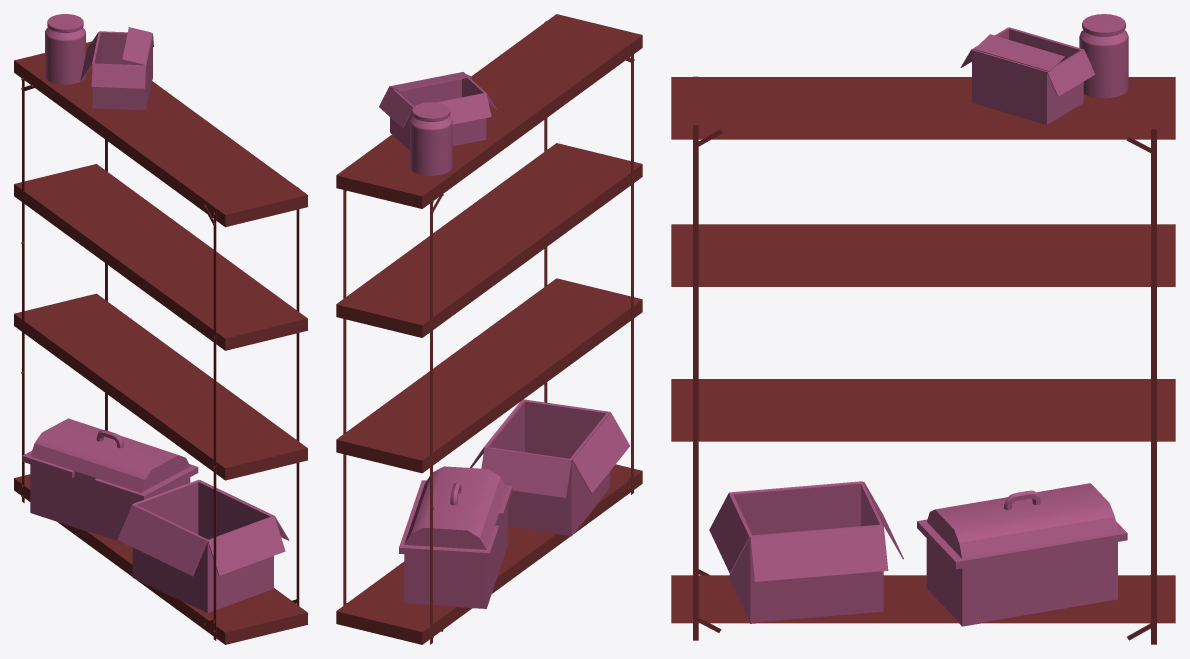
File: Estanteria.fbx
The picture shows the model from 3 angles, left to right: view 1: azimuth 30°, elevation 25°; view 2: azimuth 150°, elevation 25°; view 3: azimuth 270°, elevation 25°; orthographic projection. The views are drawn at different scales.
Parts seen in each view (by area): view 1: pCylinder74, pCube301_vtx_0_4, pCylinder195, pCube301_vtx_0_6, pCylinder217; view 2: pCylinder74, pCube301_vtx_0_4, pCylinder195, pCube301_vtx_0_6, pCylinder217; view 3: pCylinder74, pCylinder195, pCube301_vtx_0_4, pCube301_vtx_0_6, pCylinder217.
Boxes of the visible parts, left/top/right/bottom form: pCylinder74: left=14, top=41, right=307, bottom=644; pCube301_vtx_0_4: left=117, top=479, right=289, bottom=612; pCylinder195: left=22, top=418, right=198, bottom=542; pCube301_vtx_0_6: left=80, top=27, right=153, bottom=110; pCylinder217: left=45, top=14, right=85, bottom=84; pCylinder74: left=336, top=14, right=642, bottom=644; pCube301_vtx_0_4: left=470, top=399, right=629, bottom=536; pCylinder195: left=399, top=466, right=512, bottom=608; pCube301_vtx_0_6: left=379, top=72, right=497, bottom=150; pCylinder217: left=410, top=102, right=452, bottom=175; pCylinder74: left=671, top=76, right=1175, bottom=644; pCylinder195: left=917, top=483, right=1127, bottom=626; pCube301_vtx_0_4: left=709, top=481, right=903, bottom=623; pCube301_vtx_0_6: left=960, top=27, right=1094, bottom=124; pCylinder217: left=1079, top=14, right=1128, bottom=98.
Bounding box in the file's own units: 0.6212 × 2.26 × 1.76.
